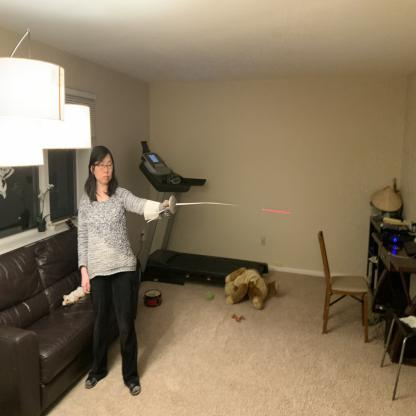foil-tip: (278, 204, 297, 221)
hand-and-foil: (146, 196, 304, 226)
